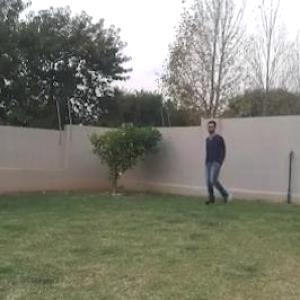follow: (203, 117, 226, 209)
